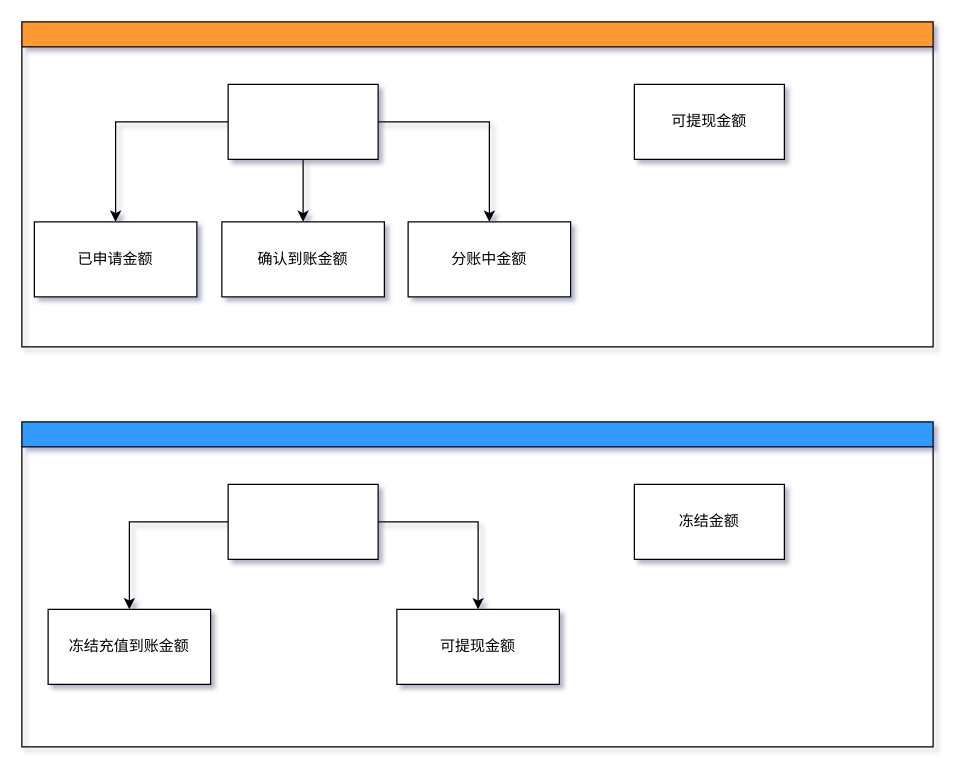
The diagram is 963 pixels wide and 776 high, and some of its shapes have lost their labels. The shapes that lost their labels are listed below. From the top down, each one's box as (x1, y1, x2, y2) in pixels, then its label:
(227, 83, 378, 159): 冻结充值金额
(21, 21, 933, 347): 客户本地的见证宝子账户(ejzb_account)
(227, 483, 378, 559): 可用金额
(21, 421, 933, 747): 客户本地的资金账户(capital_accont)
